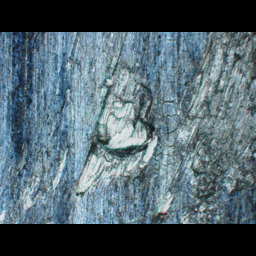d: (70, 66, 166, 199)
